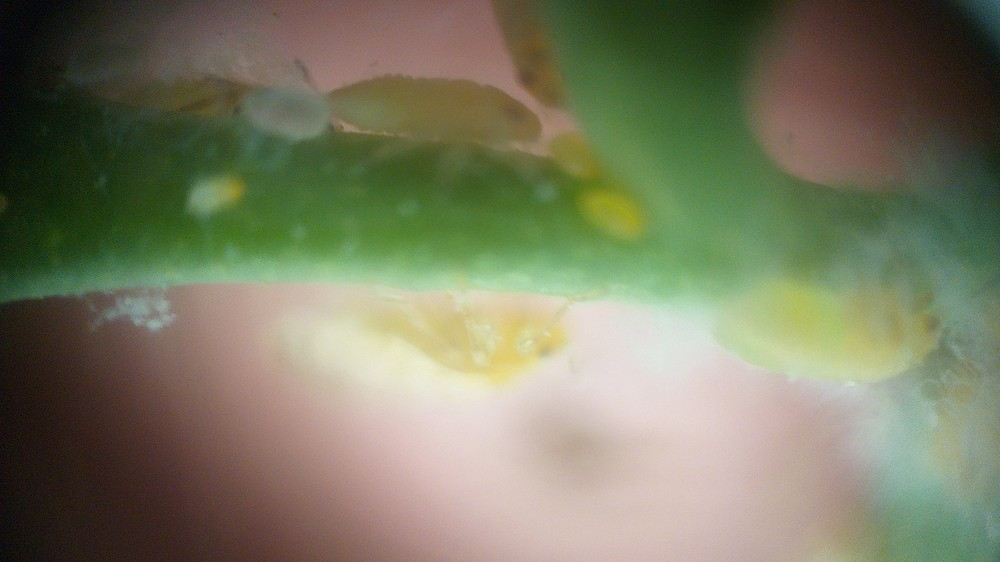Mosca Blanca: (260, 268, 592, 439)
